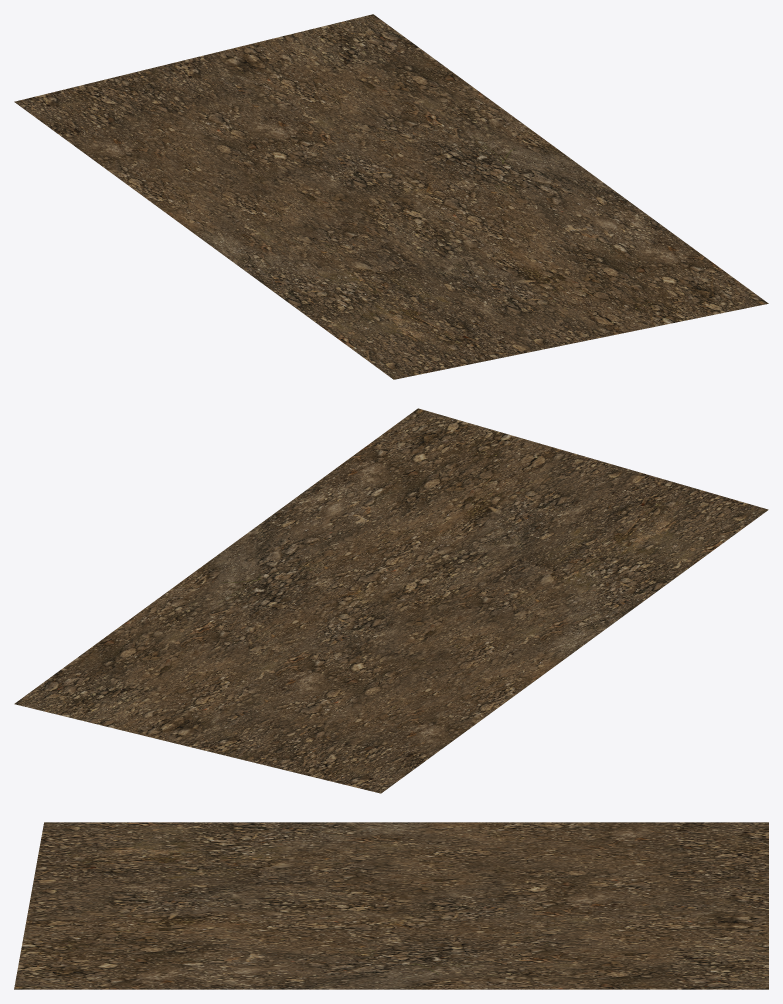
The model's file is DirtPlane.fbx.
3 renders of one model, top to bottom at view 1: azimuth 30°, elevation 25°; view 2: azimuth 150°, elevation 25°; view 3: azimuth 270°, elevation 25°, orthographic. The views are drawn at different scales.
Visible parts, largest first — view 1: Plane; view 2: Plane; view 3: Plane.
Boxes of the visible parts, x1=… form: Plane: x1=14, y1=14, x2=768, y2=379; Plane: x1=14, y1=408, x2=768, y2=793; Plane: x1=14, y1=822, x2=768, y2=989.
Size of the model in its own units: 577 by 0 by 1100.
Materials: 1 (1 with a texture image).
